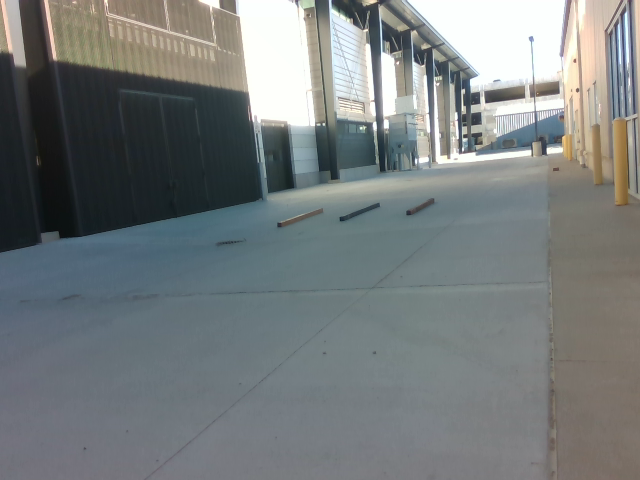Dunnage: (266, 193, 447, 233)
